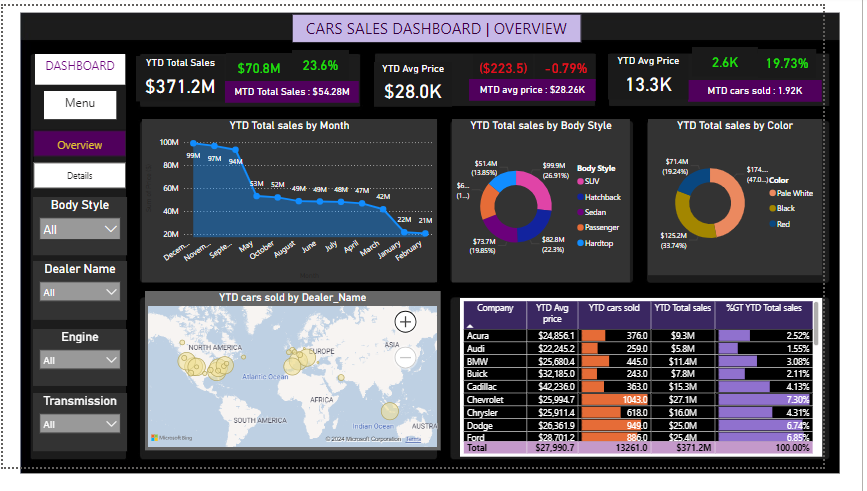

What the dashboard file says about the page in this screenshot:
{"tool":"powerbi","page":{"name":"Overview","canvas":[1280,720],"ordinal":0},"visuals":[{"type":"card","title":"YTD Total Sales","fields":{"Values":["Measure_gp.YTD Total sales"]},"box":[207.7,78.5,138.5,70.8],"z":0},{"type":"card","title":"Sales Differ","fields":{"Values":["Measure_gp.Sales difference"]},"box":[348.4,73.4,103.1,46.9],"z":1000},{"type":"card","title":"Sales Differ","fields":{"Values":["Measure_gp.YoY Sales Growth"]},"box":[451.6,68.8,89.1,46.9],"z":2000},{"type":"card","fields":{"Values":["Measure_gp.MTD kpi"]},"box":[346.9,117.2,209.4,34.4],"z":3000},{"type":"card","title":"YTD Avg Price","fields":{"Values":["Measure_gp.YTD Avg price"]},"box":[579.7,87.5,121.9,70.3],"z":4000},{"type":"card","title":"Sales Differ","fields":{"Values":["Measure_gp.Avg Price Differ"]},"box":[734.4,75,93.8,42.2],"z":5000},{"type":"card","title":"Sales Differ","fields":{"Values":["Measure_gp.YOY Avg price"]},"box":[831.2,75,95.3,42.2],"z":6000},{"type":"card","fields":{"Values":["Measure_gp.MTD avg kpi"]},"box":[727.7,113.8,198.5,33.8],"z":7000},{"type":"card","title":"Sales Differ","fields":{"Values":["Measure_gp.cars sold diff"]},"box":[1076.9,64.6,103.1,46.2],"z":9000},{"type":"card","title":"Sales Differ","fields":{"Values":["Measure_gp.YoY cars sold Growth"]},"box":[1180,67.7,90.8,44.6],"z":10000},{"type":"card","fields":{"Values":["Measure_gp.MTD cars kpi"]},"box":[1070.8,115.4,209.2,33.8],"z":11000},{"type":"areaChart","title":"YTD Total sales by Month","fields":{"Y":["Sum(car_data.Price ($))"],"Category":["calender table.Month"]},"box":[217.2,176.6,460.9,254.7],"z":12000},{"type":"donutChart","fields":{"Category":["car_data.Body Style"],"Y":["Measure_gp.YTD Total sales"]},"box":[701.6,176.6,278.1,254.7],"z":13000},{"type":"donutChart","fields":{"Category":["car_data.Color"],"Y":["Measure_gp.YTD Total sales"]},"box":[1007.8,176.6,271.9,243.8],"z":14000},{"type":"map","fields":{"Category":["car_data.Dealer_Name"],"Size":["Measure_gp.YTD cars sold"]},"box":[221.5,444.6,461.5,249.2],"z":14001},{"type":"tableEx","fields":{"Values":["car_data.Company","Measure_gp.YTD Avg price","Measure_gp.YTD cars sold","Measure_gp.YTD Total sales1","Measure_gp.YTD Total sales"]},"box":[713.8,456.9,566.2,247.7],"z":14002},{"type":"textbox","box":[451.6,12.5,451.6,45.3],"z":14003},{"type":"card","title":"YTD Avg Price","fields":{"Values":["Measure_gp.YTD cars sold"]},"box":[944.6,75.4,126.2,70.8],"z":14004},{"type":"slicer","title":"Body Style","fields":{"Values":["car_data.Body Style"]},"box":[46.9,298.4,146.9,90.6],"z":14005},{"type":"slicer","title":"Dealer Name","fields":{"Values":["car_data.Dealer_Name"]},"box":[46.9,398.4,146.9,92.2],"z":14006},{"type":"slicer","title":"Engine","fields":{"Values":["car_data.Engine"]},"box":[46.9,504.7,146.9,89.1],"z":14007},{"type":"slicer","title":"Transmission","fields":{"Values":["car_data.Transmission"]},"box":[46.9,604.7,146.9,90.6],"z":14008},{"type":"pageNavigator","box":[46.9,193.8,146.9,92.2],"z":14009},{"type":"textbox","box":[64.1,132.8,112.5,43.8],"z":14010},{"type":"textbox","box":[50,75,140.6,48.4],"z":14011}]}

Visuals, with their boxes in screenshot pixels (x1, y1, x2, y2), scaled from the page's 1280x720 canvas onto the 867x491 screenshot:
"YTD Total Sales" card: [x1=141, y1=54, x2=234, y2=102]
"Sales Differ" card: [x1=236, y1=50, x2=306, y2=82]
"Sales Differ" card: [x1=306, y1=47, x2=366, y2=79]
card - Measure_gp.MTD kpi: [x1=235, y1=80, x2=377, y2=103]
"YTD Avg Price" card: [x1=393, y1=60, x2=475, y2=108]
"Sales Differ" card: [x1=497, y1=51, x2=561, y2=80]
"Sales Differ" card: [x1=563, y1=51, x2=628, y2=80]
card - Measure_gp.MTD avg kpi: [x1=493, y1=78, x2=627, y2=101]
"Sales Differ" card: [x1=729, y1=44, x2=799, y2=76]
"Sales Differ" card: [x1=799, y1=46, x2=861, y2=77]
card - Measure_gp.MTD cars kpi: [x1=725, y1=79, x2=866, y2=102]
"YTD Total sales by Month" areaChart: [x1=147, y1=120, x2=459, y2=294]
donutChart - car_data.Body Style x Measure_gp.YTD Total sales: [x1=475, y1=120, x2=664, y2=294]
donutChart - car_data.Color x Measure_gp.YTD Total sales: [x1=683, y1=120, x2=866, y2=287]
map - car_data.Dealer_Name x Measure_gp.YTD cars sold: [x1=150, y1=303, x2=463, y2=473]
tableEx - car_data.Company x Measure_gp.YTD Avg price: [x1=483, y1=312, x2=866, y2=480]
textbox: [x1=306, y1=9, x2=612, y2=39]
"YTD Avg Price" card: [x1=640, y1=51, x2=725, y2=100]
"Body Style" slicer: [x1=32, y1=203, x2=131, y2=265]
"Dealer Name" slicer: [x1=32, y1=272, x2=131, y2=335]
"Engine" slicer: [x1=32, y1=344, x2=131, y2=405]
"Transmission" slicer: [x1=32, y1=412, x2=131, y2=474]
pageNavigator: [x1=32, y1=132, x2=131, y2=195]
textbox: [x1=43, y1=91, x2=120, y2=120]
textbox: [x1=34, y1=51, x2=129, y2=84]
